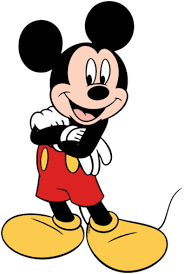mickey: (1, 1, 169, 271)
